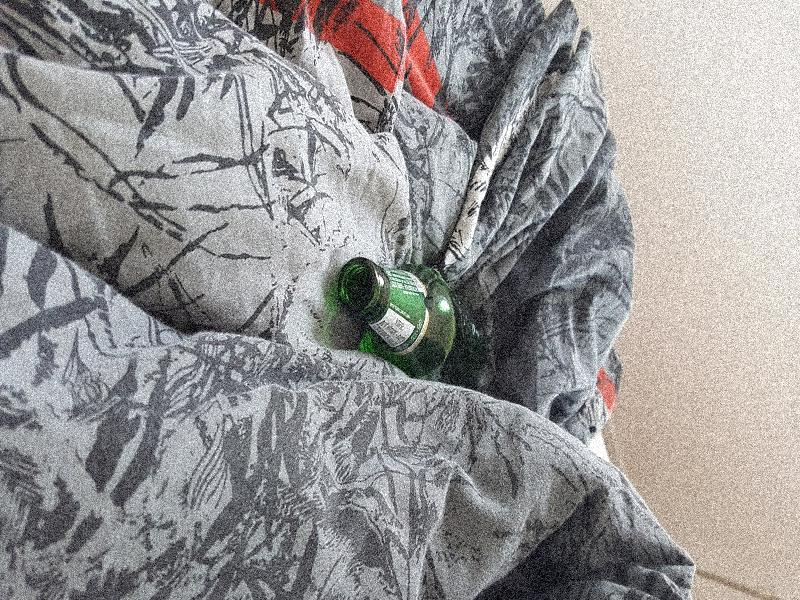Beer: (337, 261, 483, 377)
